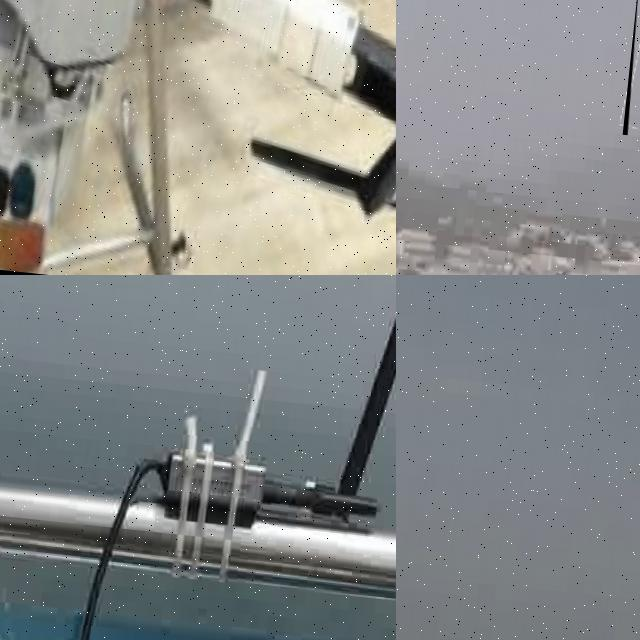drone: (0, 0, 396, 275)
